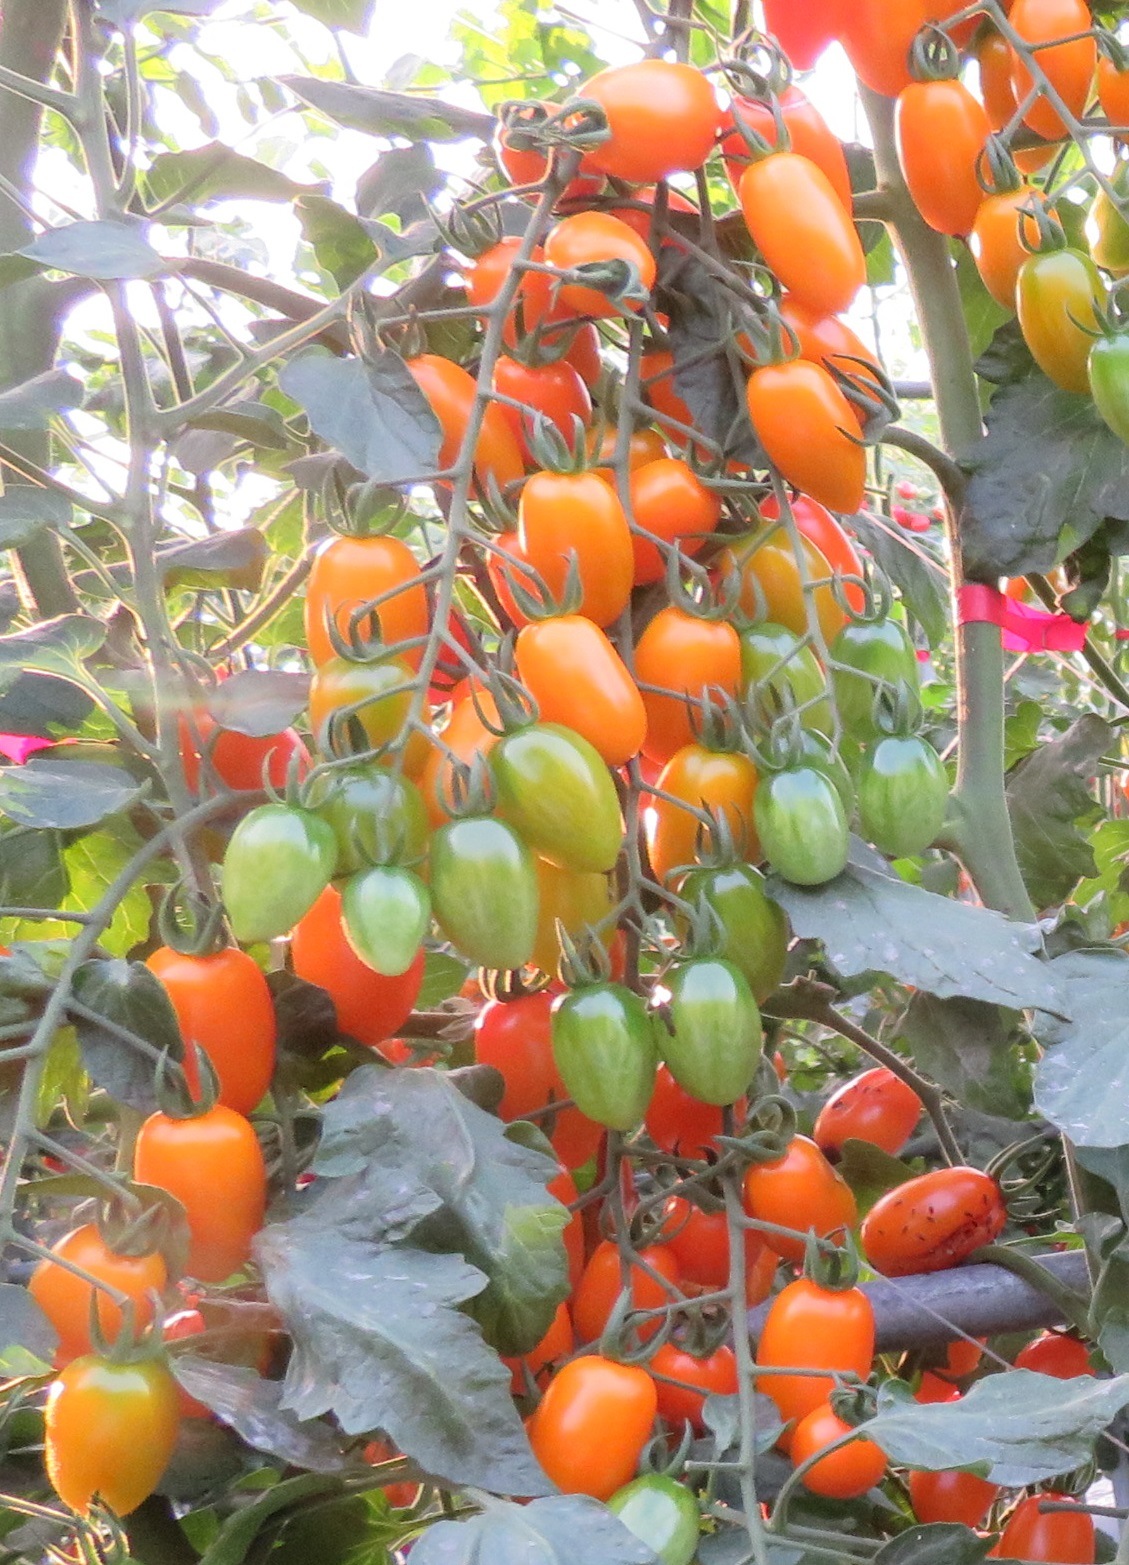green: (487, 723, 632, 874), (414, 820, 535, 981), (649, 947, 761, 1118), (211, 795, 333, 949), (557, 981, 661, 1131), (1011, 255, 1108, 397), (758, 762, 854, 894), (736, 634, 841, 755), (335, 870, 435, 994), (858, 731, 945, 858), (832, 626, 922, 728), (677, 870, 774, 955), (616, 1463, 702, 1550), (1091, 321, 1129, 440)
orange: (33, 1337, 180, 1529), (132, 1108, 267, 1289), (540, 58, 726, 181), (738, 152, 866, 320), (147, 947, 280, 1104), (743, 366, 882, 513), (532, 1351, 662, 1501), (501, 616, 645, 748), (290, 913, 425, 1049), (638, 745, 758, 882), (854, 1174, 1009, 1279), (411, 350, 527, 486), (35, 1221, 164, 1341), (519, 473, 623, 612), (293, 539, 430, 644), (625, 601, 736, 729), (890, 79, 980, 232), (806, 1063, 924, 1165), (572, 1236, 677, 1349), (630, 454, 719, 586), (662, 1176, 764, 1292), (753, 1278, 854, 1394), (736, 1149, 839, 1262), (1007, 1, 1090, 136), (532, 215, 648, 305), (790, 1405, 890, 1503), (653, 1339, 747, 1434), (998, 1492, 1103, 1565), (907, 1468, 1001, 1537), (1012, 1330, 1112, 1395), (972, 190, 1029, 296), (764, 1, 835, 81)
